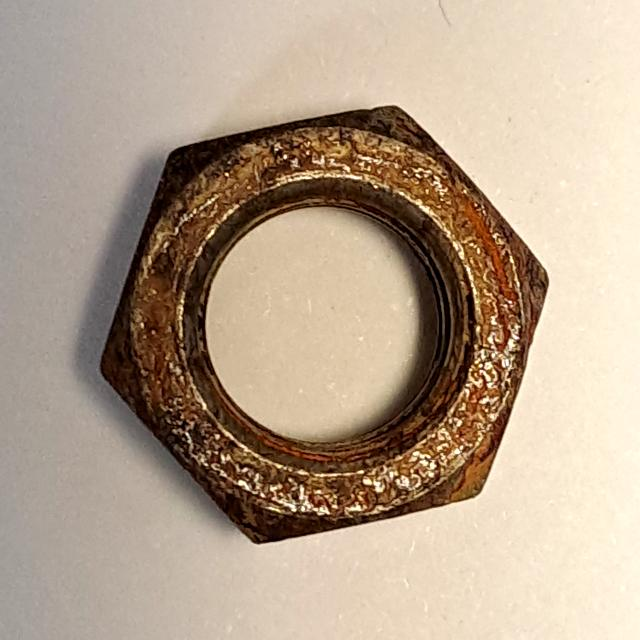Rust: (87, 89, 566, 562)
